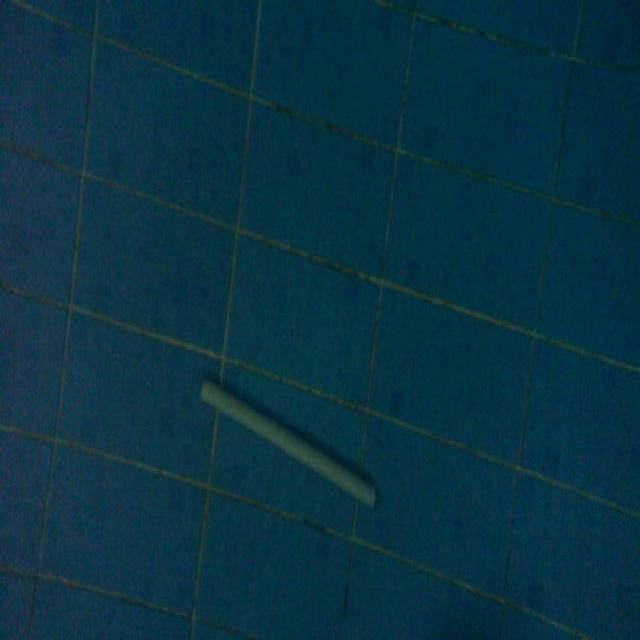Cube: (198, 372, 379, 514)
